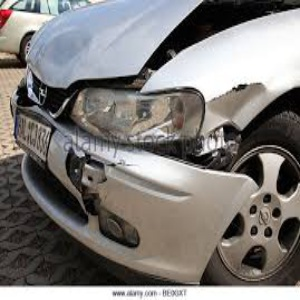bumper: (91, 167, 247, 282)
